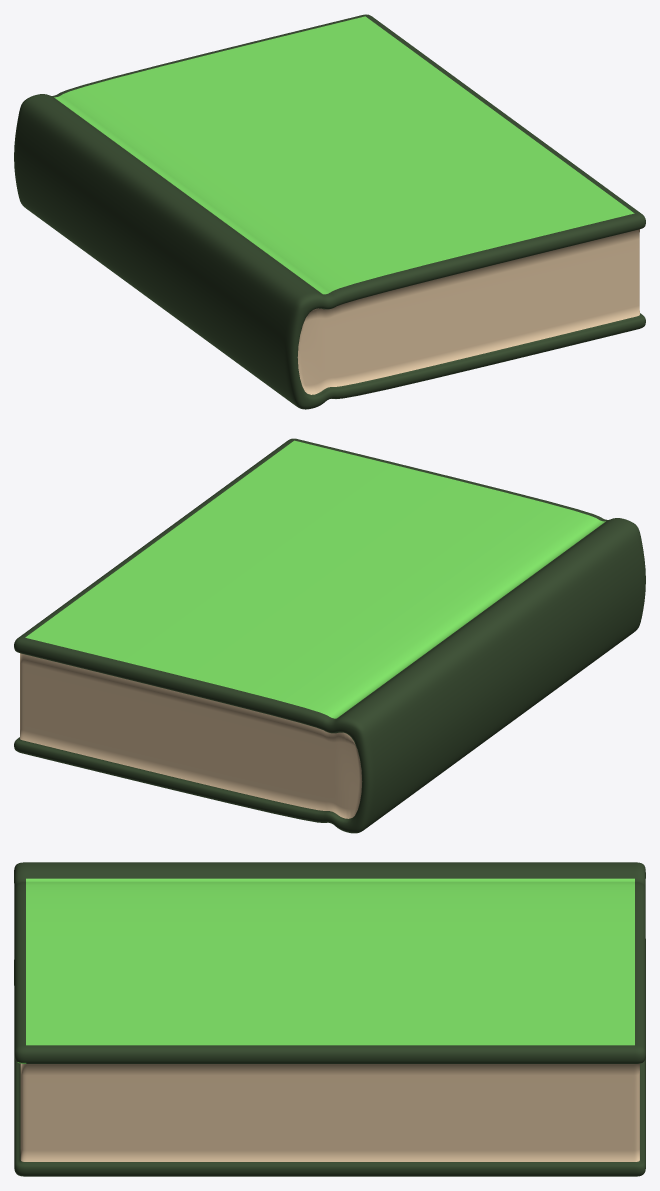
Rendered from Book_Green.fbx.
3 views of the same model, one above another, from view 1: azimuth 30°, elevation 25°; view 2: azimuth 150°, elevation 25°; view 3: azimuth 270°, elevation 25° (orthographic). The views are drawn at different scales.
Visible parts, largest first — view 1: Book Green.001; view 2: Book Green.001; view 3: Book Green.001.
Part boxes in pixels (x1,y1,x2,y2): Book Green.001: [14, 14, 645, 409]; Book Green.001: [14, 438, 645, 833]; Book Green.001: [14, 862, 645, 1176].
Size of the model in its own units: 14.26 by 19.27 by 4.35.
